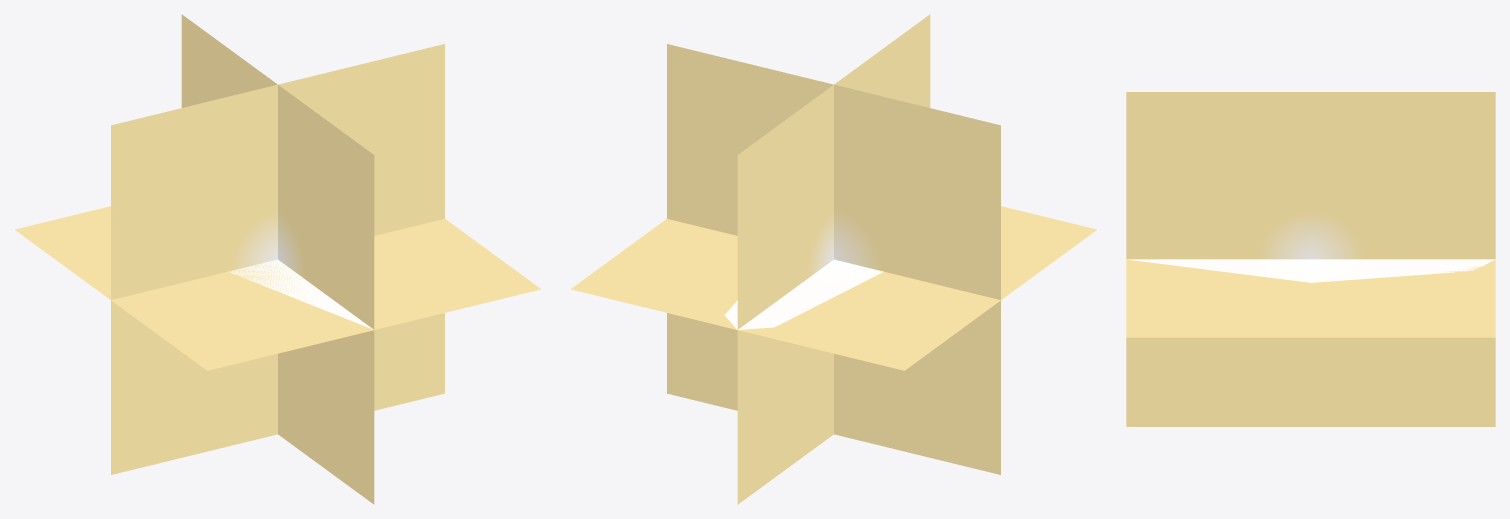
The model's file is fx_feather_max.glb.
The picture shows the model from 3 angles, left to right: view 1: azimuth 30°, elevation 25°; view 2: azimuth 150°, elevation 25°; view 3: azimuth 270°, elevation 25°; orthographic projection. The views are drawn at different scales.
Parts seen in each view (by area): view 1: fx_feather_glow, fx_feather; view 2: fx_feather_glow, fx_feather; view 3: fx_feather_glow, fx_feather.
Boxes of the visible parts, x1,y1,x2,y2 form: fx_feather_glow: (15,14,540,504); fx_feather: (228,260,373,329); fx_feather_glow: (571,14,1096,504); fx_feather: (724,259,883,329); fx_feather_glow: (1126,92,1495,426); fx_feather: (1126,259,1495,282).
Bounding box in the file's own units: 0.8 × 0.8 × 0.8.
2 materials, 1 textured.
